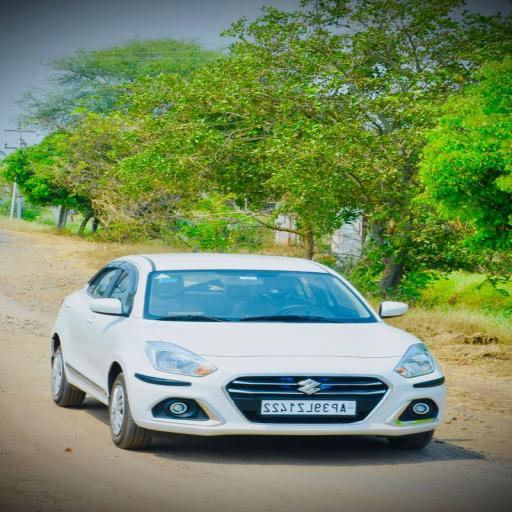License: (256, 396, 356, 420)
